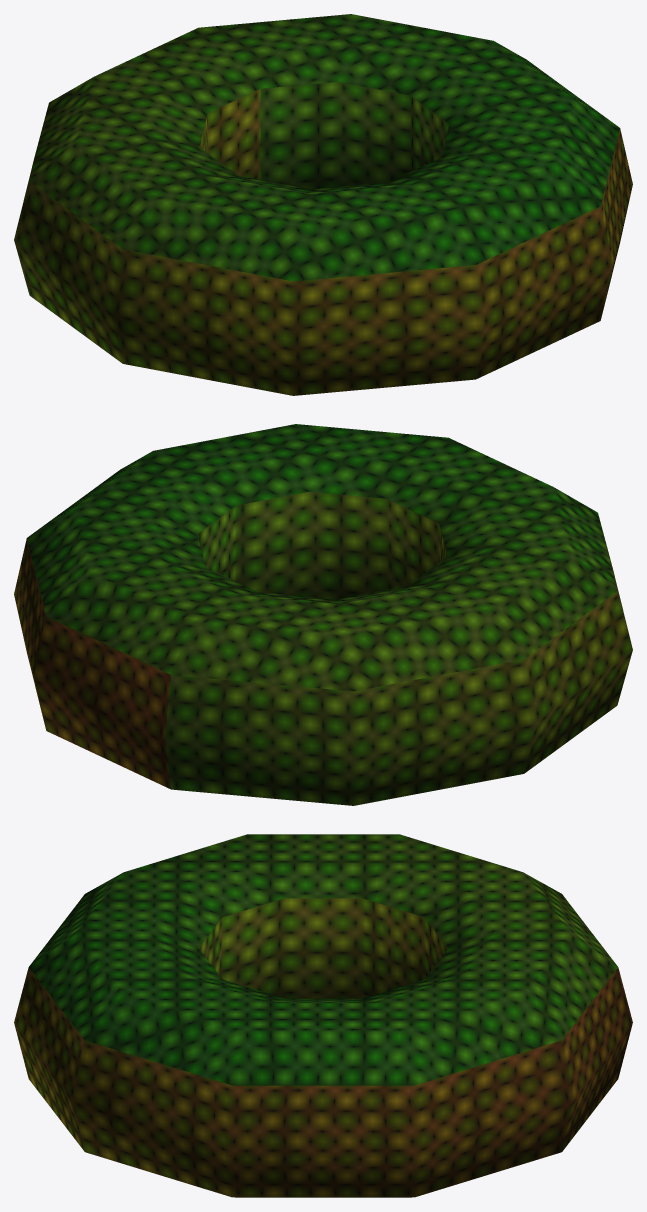
File: Prop_Pneumatico.fbx
3 views of the same model, one above another, from view 1: azimuth 30°, elevation 25°; view 2: azimuth 150°, elevation 25°; view 3: azimuth 270°, elevation 25° (orthographic). The views are drawn at different scales.
Visible parts, largest first — view 1: Pneumatico; view 2: Pneumatico; view 3: Pneumatico.
Part boxes in pixels (box(x1,y1,x2,y2)): Pneumatico: box(14, 14, 632, 395); Pneumatico: box(14, 424, 632, 805); Pneumatico: box(14, 834, 632, 1197).
Size of the model in its own units: 1.02 by 0.3149 by 1.07.
Materials: 1 (1 with a texture image).
